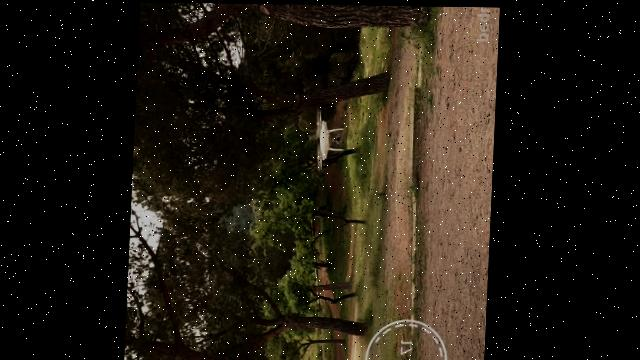drone: (314, 105, 348, 173)
